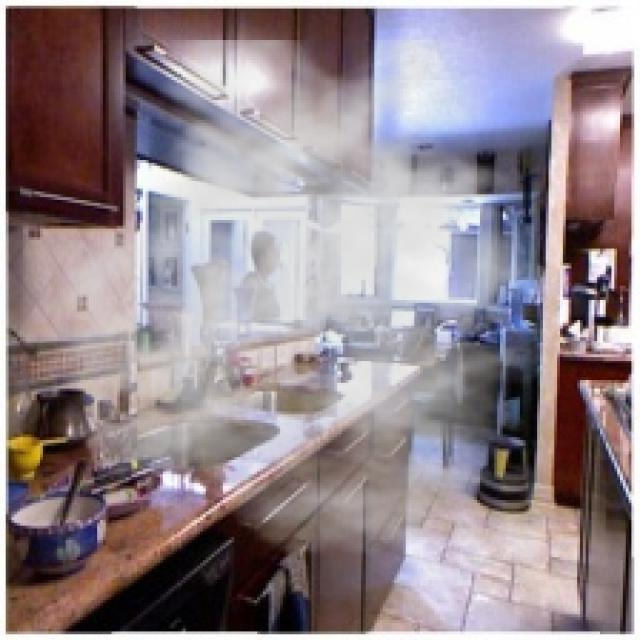smoke: (29, 40, 597, 557)
